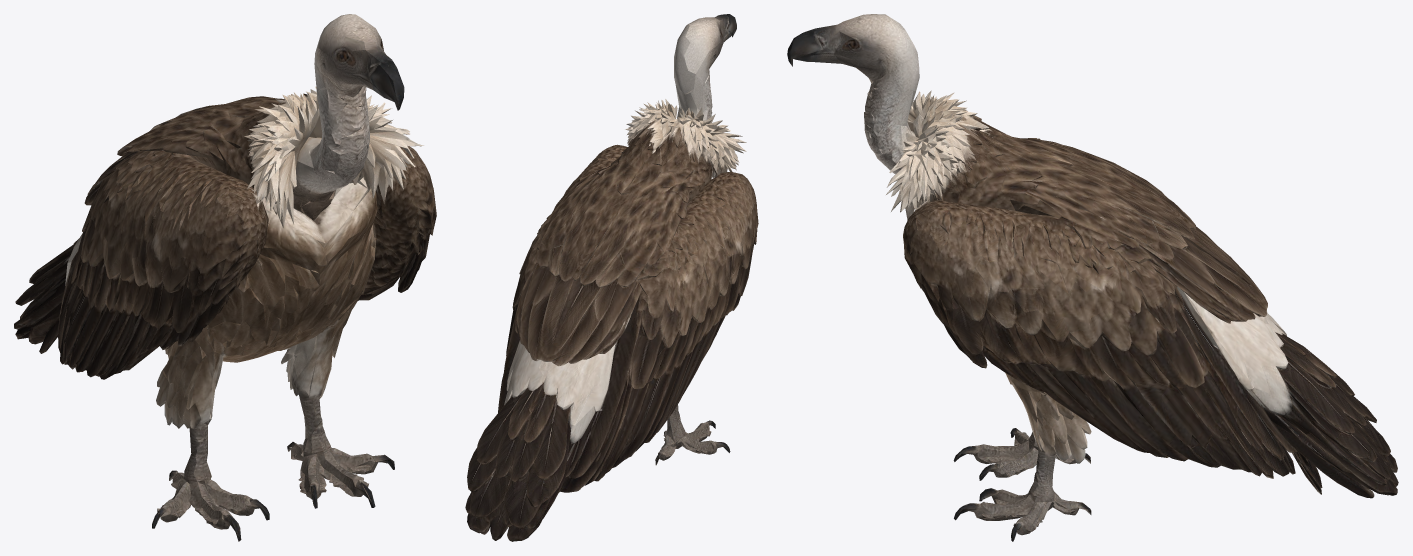
Rendered from white-backed-vulture.glb.
The picture shows the model from 3 angles, left to right: view 1: azimuth 30°, elevation 25°; view 2: azimuth 150°, elevation 25°; view 3: azimuth 270°, elevation 25°; orthographic projection. The views are drawn at different scales.
Size of the model in its own units: 0.8144 by 1.63 by 1.9.
1 material, 1 textured.
